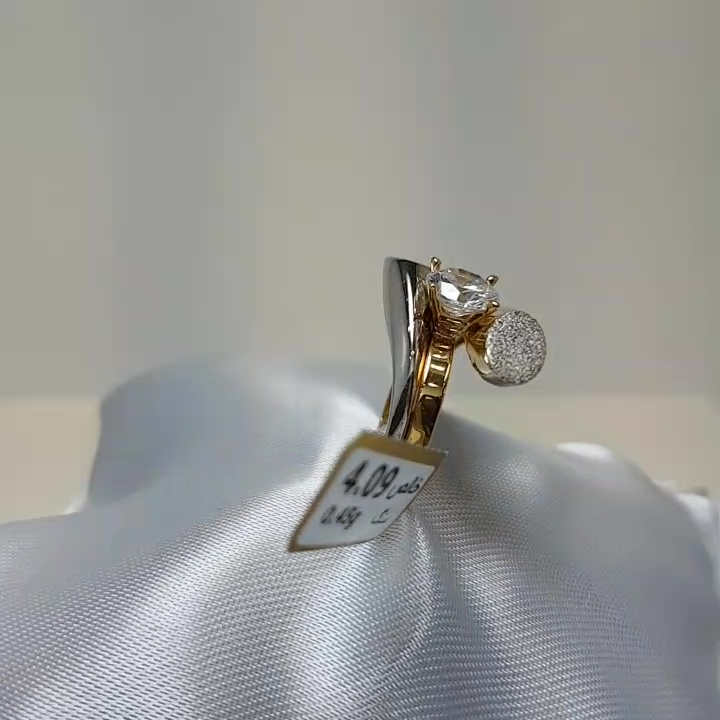Ring 7: (318, 238, 552, 506)
